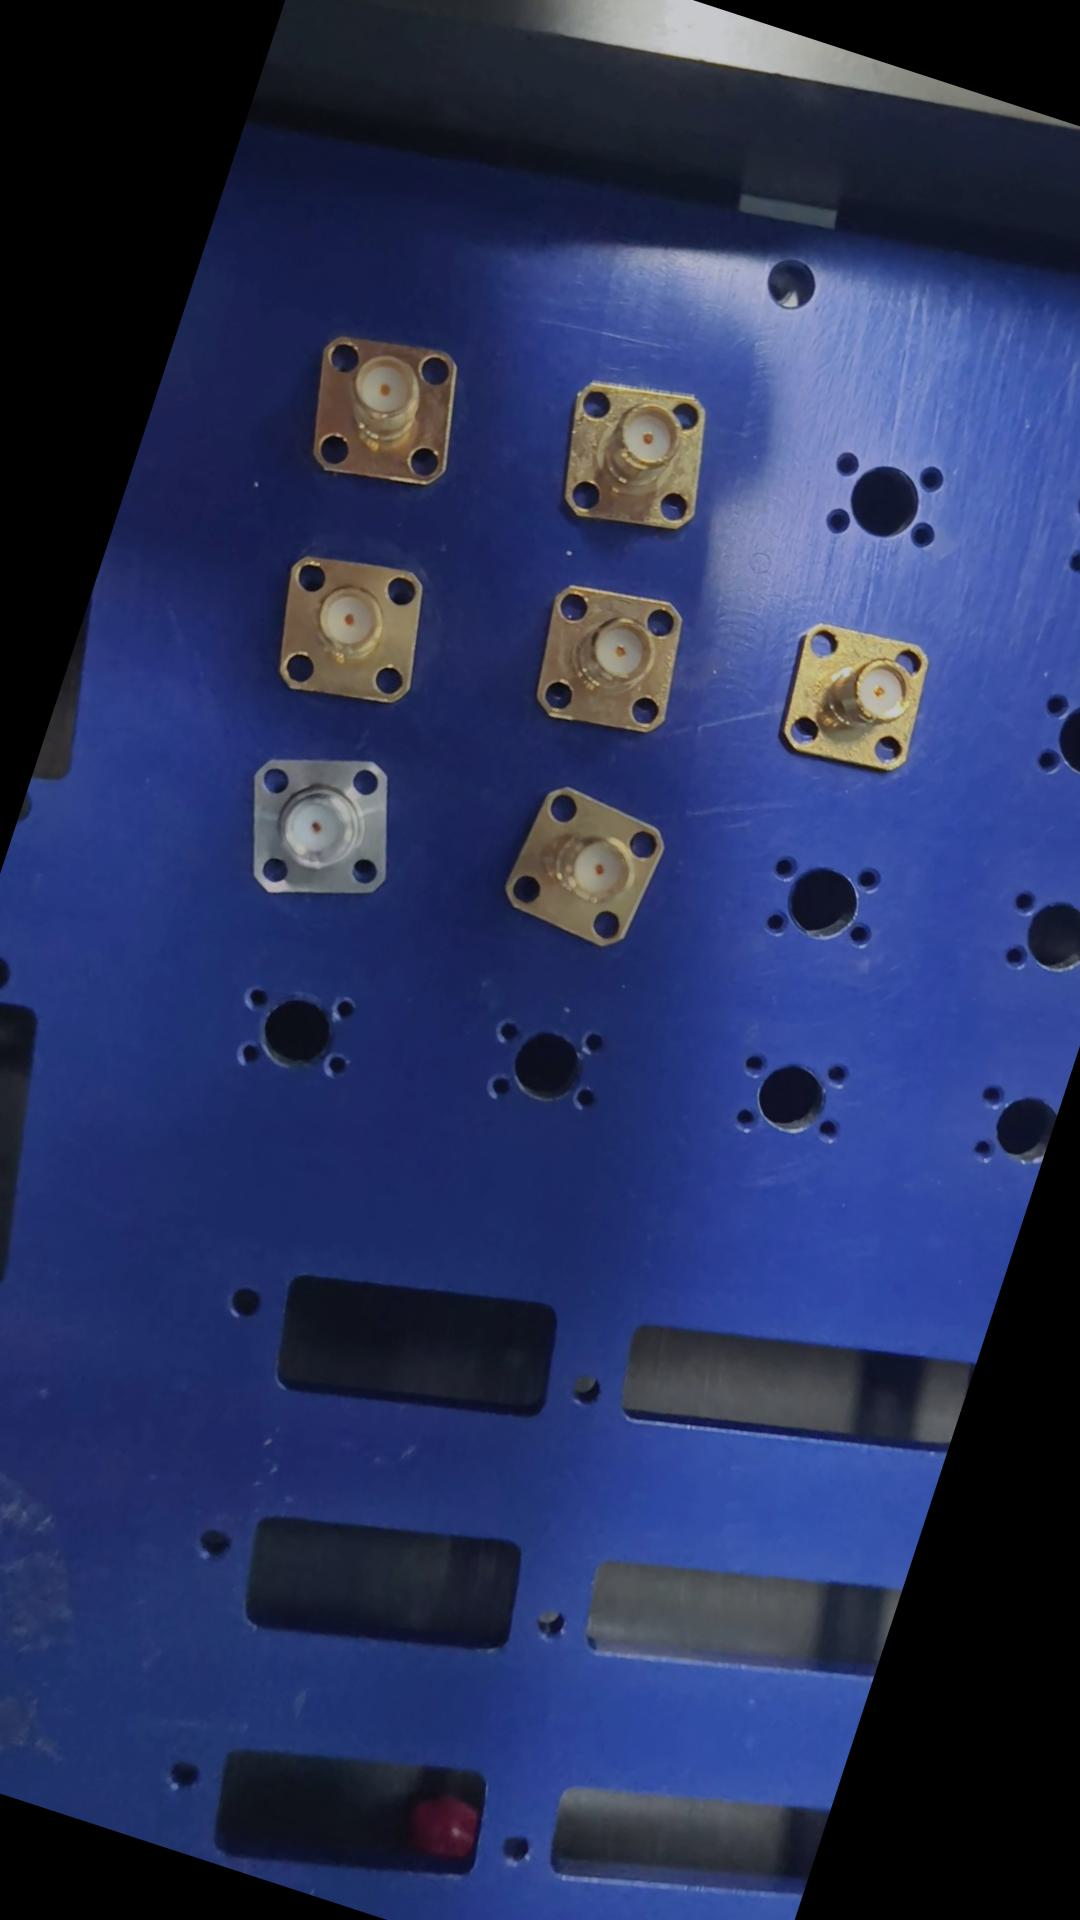SMA: (243, 529, 458, 728), (223, 723, 431, 927), (492, 775, 690, 971), (287, 324, 487, 508), (517, 564, 707, 756), (547, 367, 738, 555), (766, 603, 948, 796)
